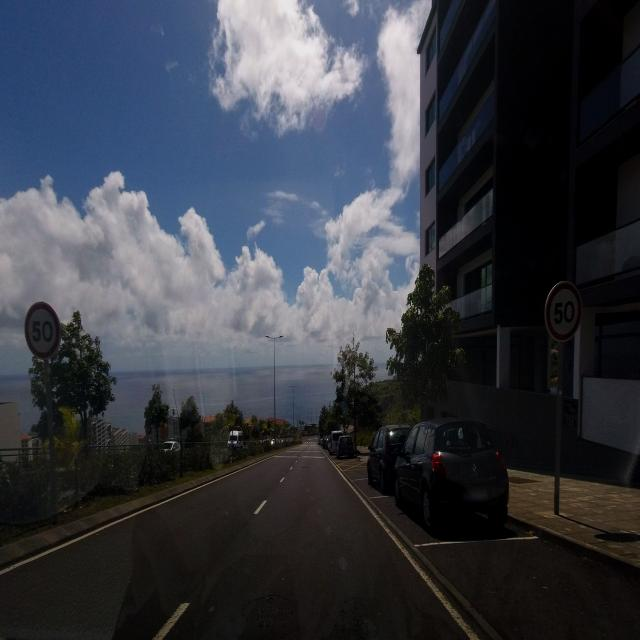car: (393, 415, 509, 531), (366, 423, 412, 493), (336, 434, 355, 458), (328, 428, 344, 454), (226, 429, 244, 449), (161, 439, 181, 451), (322, 434, 329, 448)
